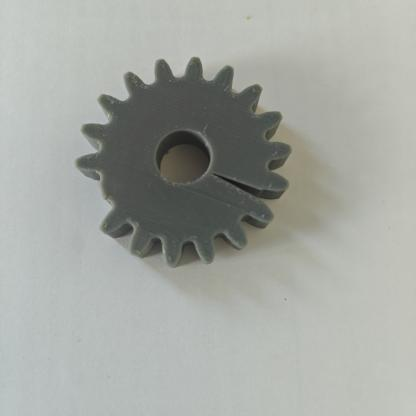defect: (184, 158, 298, 244), (55, 153, 144, 234)
gear: (45, 47, 326, 292)
